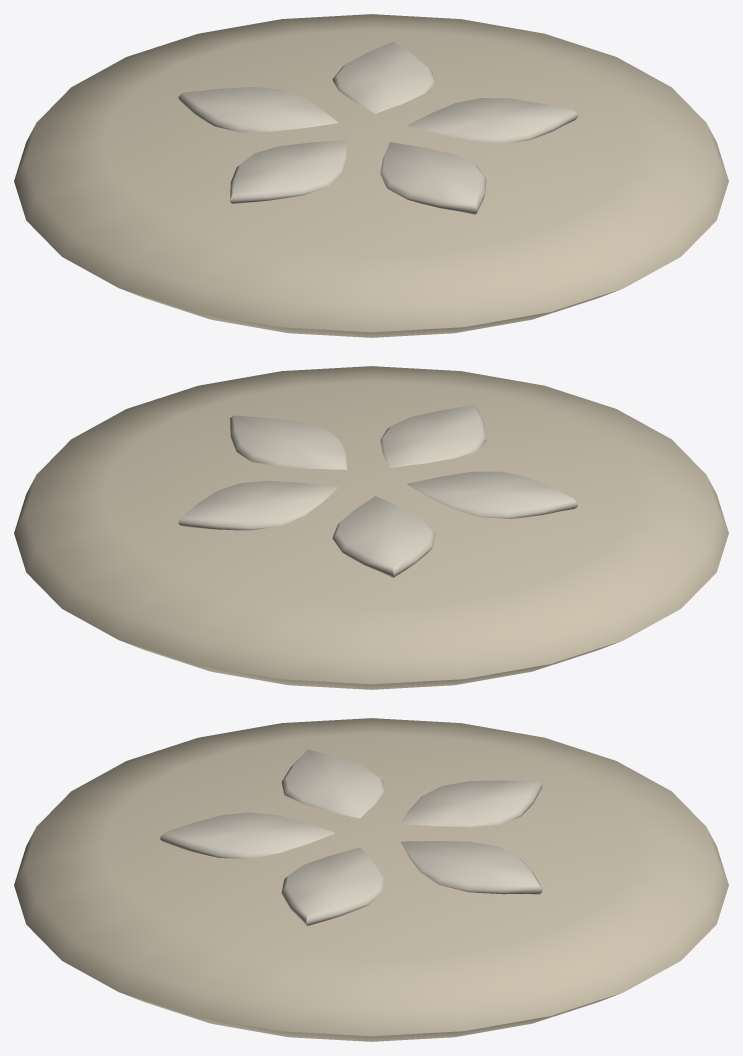
The model's file is sand-dollar.glb.
3 renders of one model, top to bottom at view 1: azimuth 30°, elevation 25°; view 2: azimuth 150°, elevation 25°; view 3: azimuth 270°, elevation 25°, orthographic.
Visible parts, largest first — view 1: sand-dollar; view 2: sand-dollar; view 3: sand-dollar.
Boxes of the visible parts, x1,y1,x2,y2 form: sand-dollar: (14,14,728,337); sand-dollar: (14,366,728,689); sand-dollar: (14,718,728,1041).
Size of the model in its own units: 0.22 by 0.025 by 0.22.
